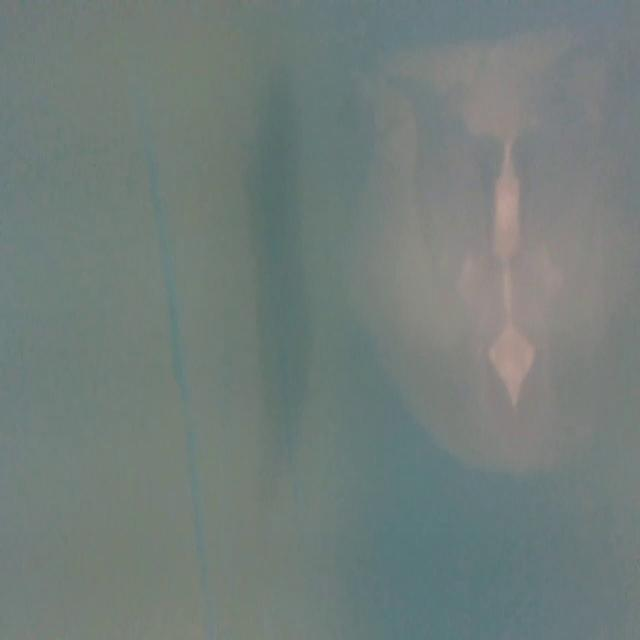plastic bags: (316, 36, 640, 474)
